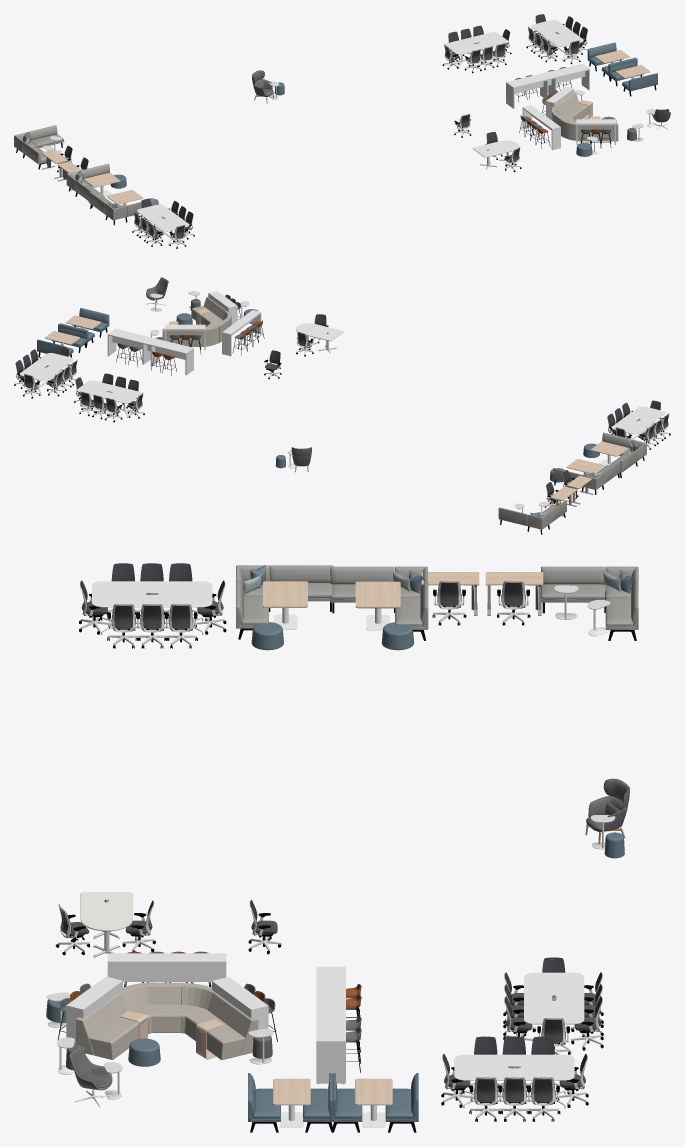
The model's file is WM_MOB.glb.
3 renders of one model, top to bottom at view 1: azimuth 30°, elevation 25°; view 2: azimuth 150°, elevation 25°; view 3: azimuth 270°, elevation 25°, orthographic. The views are drawn at different scales.
Visible parts, largest first — view 1: P_35, P_51, P_24, P_26, P_25, P_40, P_41, P_52, P_57, P_48, P_82, P_81 (+5 smaller); view 2: P_35, P_51, P_40, P_26, P_25, P_24, P_41, P_52, P_57, P_48, P_82, P_81 (+3 smaller); view 3: P_35, P_41, P_40, P_57, P_26, P_24, P_25, P_81, P_82, P_52, P_48, P_85 (+25 smaller).
Part boxes in pixels (x1=…): P_35: x1=14, y1=125, x2=64, y2=169; P_51: x1=506, y1=72, x2=556, y2=108; P_24: x1=137, y1=204, x2=189, y2=245; P_26: x1=531, y1=20, x2=583, y2=60; P_25: x1=445, y1=32, x2=508, y2=68; P_40: x1=88, y1=191, x2=155, y2=225; P_41: x1=66, y1=163, x2=115, y2=207; P_52: x1=540, y1=63, x2=589, y2=97; P_57: x1=522, y1=105, x2=560, y2=150; P_48: x1=472, y1=140, x2=519, y2=169; P_82: x1=577, y1=123, x2=618, y2=141; P_81: x1=552, y1=92, x2=588, y2=120; P_35: x1=498, y1=500, x2=566, y2=534; P_51: x1=142, y1=337, x2=193, y2=375; P_40: x1=602, y1=432, x2=646, y2=477; P_26: x1=20, y1=353, x2=73, y2=395; P_25: x1=77, y1=380, x2=141, y2=417; P_24: x1=611, y1=406, x2=665, y2=439; P_41: x1=553, y1=460, x2=620, y2=494; P_52: x1=107, y1=328, x2=159, y2=366; P_57: x1=222, y1=310, x2=261, y2=356; P_48: x1=296, y1=323, x2=343, y2=353; P_82: x1=191, y1=296, x2=227, y2=326; P_81: x1=162, y1=328, x2=204, y2=346; P_35: x1=541, y1=566, x2=638, y2=640; P_41: x1=330, y1=566, x2=428, y2=640; P_40: x1=236, y1=565, x2=333, y2=639; P_57: x1=107, y1=953, x2=226, y2=981; P_26: x1=454, y1=1054, x2=574, y2=1108; P_24: x1=92, y1=581, x2=212, y2=634; P_25: x1=524, y1=972, x2=584, y2=1053; P_81: x1=183, y1=990, x2=258, y2=1060; P_82: x1=76, y1=992, x2=151, y2=1059; P_52: x1=316, y1=999, x2=345, y2=1084; P_48: x1=80, y1=892, x2=132, y2=958; P_85: x1=147, y1=982, x2=187, y2=1032.
Bounding box in the file's own units: 32.53 × 1.4 × 15.23.
80 materials, 72 textured.
